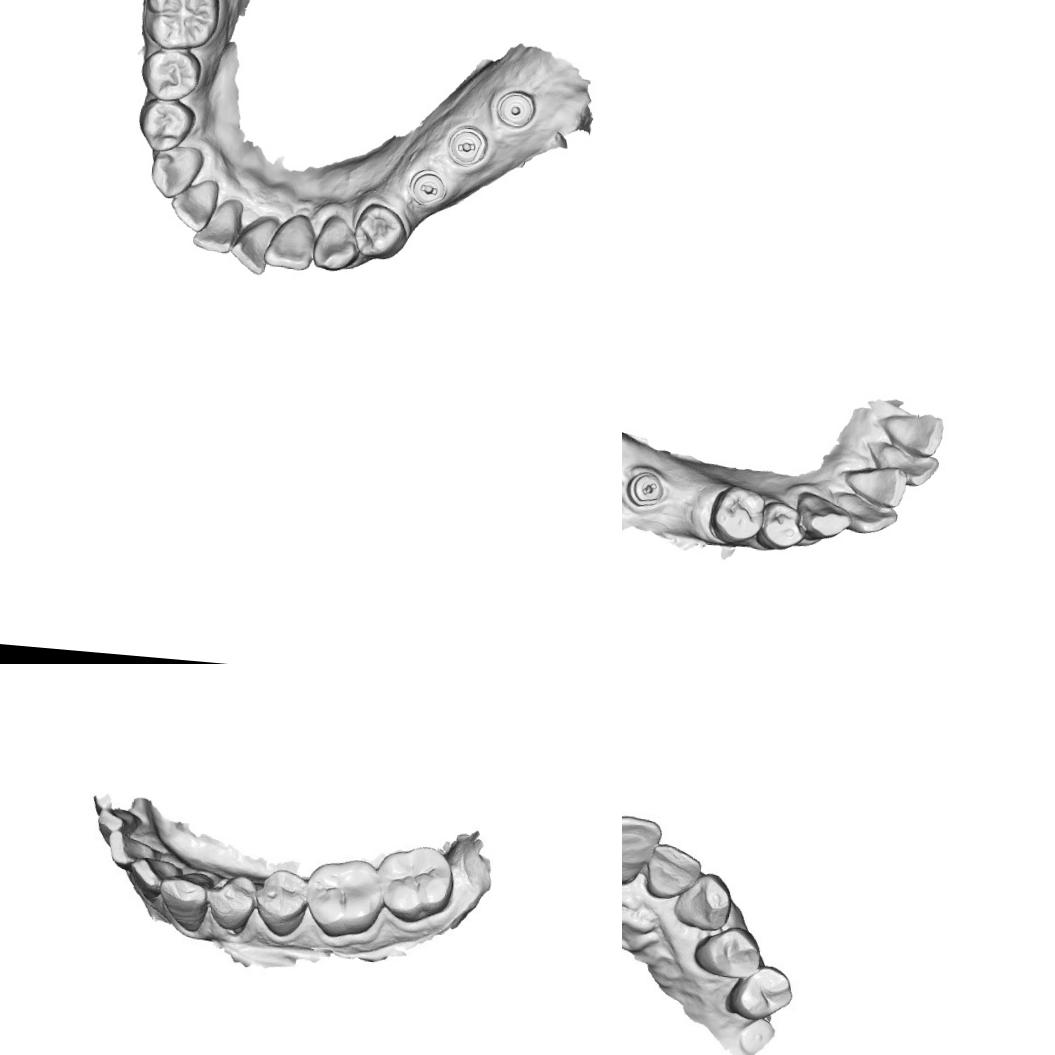canine: (146, 140, 208, 203), (672, 871, 734, 932), (161, 868, 212, 936), (311, 209, 362, 275), (793, 490, 854, 544)
implant: (497, 86, 538, 130), (737, 1016, 774, 1055)
implant_minus: (442, 124, 495, 170), (625, 468, 665, 509), (407, 166, 449, 205)
incisor: (228, 208, 280, 277), (263, 210, 319, 273), (877, 410, 945, 460), (841, 460, 910, 509), (167, 172, 220, 234), (190, 195, 243, 256), (649, 838, 700, 900), (873, 444, 941, 488), (835, 490, 900, 536), (622, 812, 658, 885), (132, 850, 182, 902), (96, 803, 148, 845), (110, 831, 157, 865)
molar: (304, 858, 384, 940), (378, 842, 457, 925), (138, 0, 227, 55)
premolar: (692, 922, 765, 982), (725, 962, 795, 1024), (204, 868, 260, 939), (136, 45, 204, 103), (708, 481, 767, 547), (255, 868, 308, 940), (134, 96, 197, 155), (352, 200, 409, 262), (758, 499, 808, 552)
